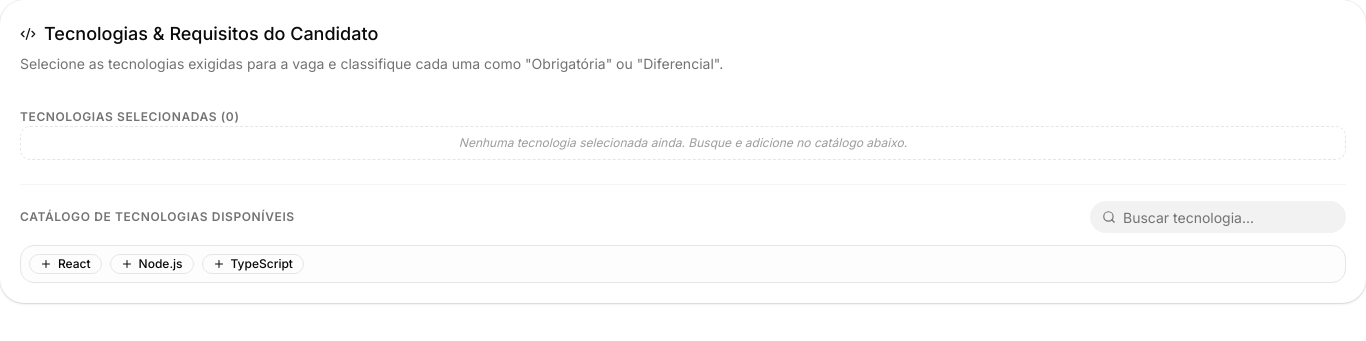
Test: JobTechnologiesSection Component › adds technology when clicked in catalog and toggles mandatory status
Click the text "React" at (65, 264), box [29,254,102,274]
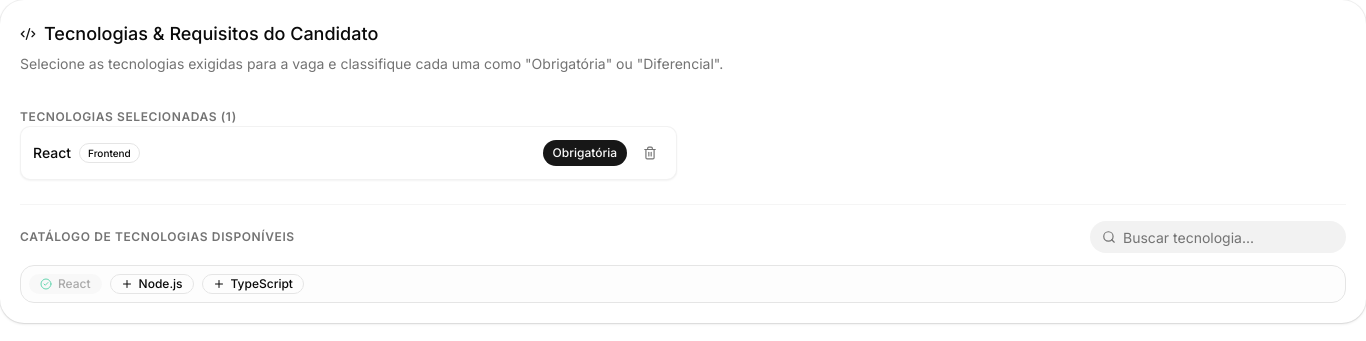
Expected: the button "Obrigatória" is shown
Click the button "Obrigatória" at (585, 153), box [542,139,628,167]
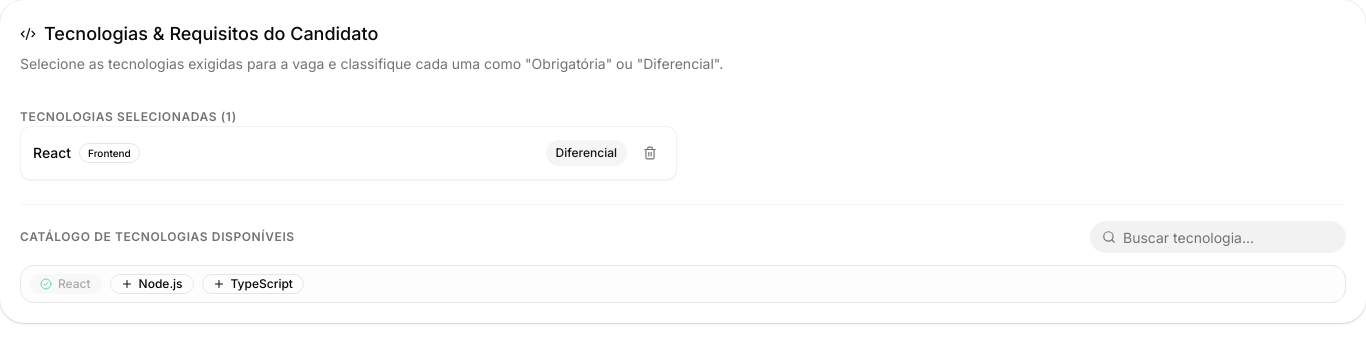
Expected: the button "Diferencial" is shown, [545,139,628,167]
